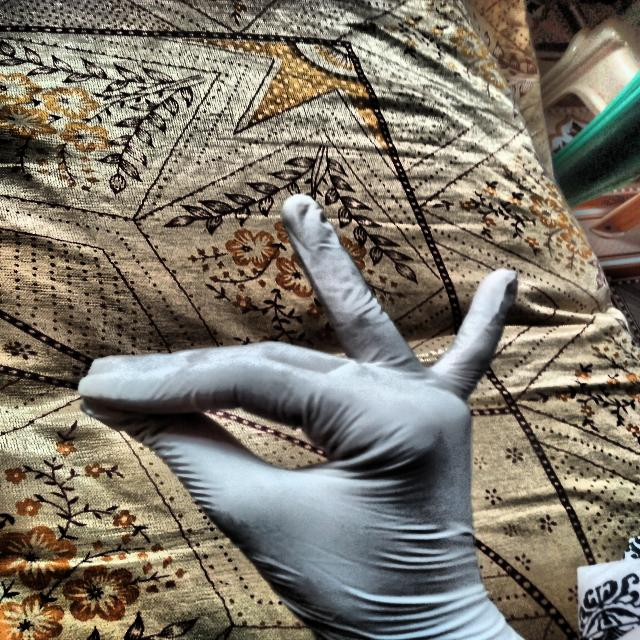gloved: (72, 193, 527, 640)
